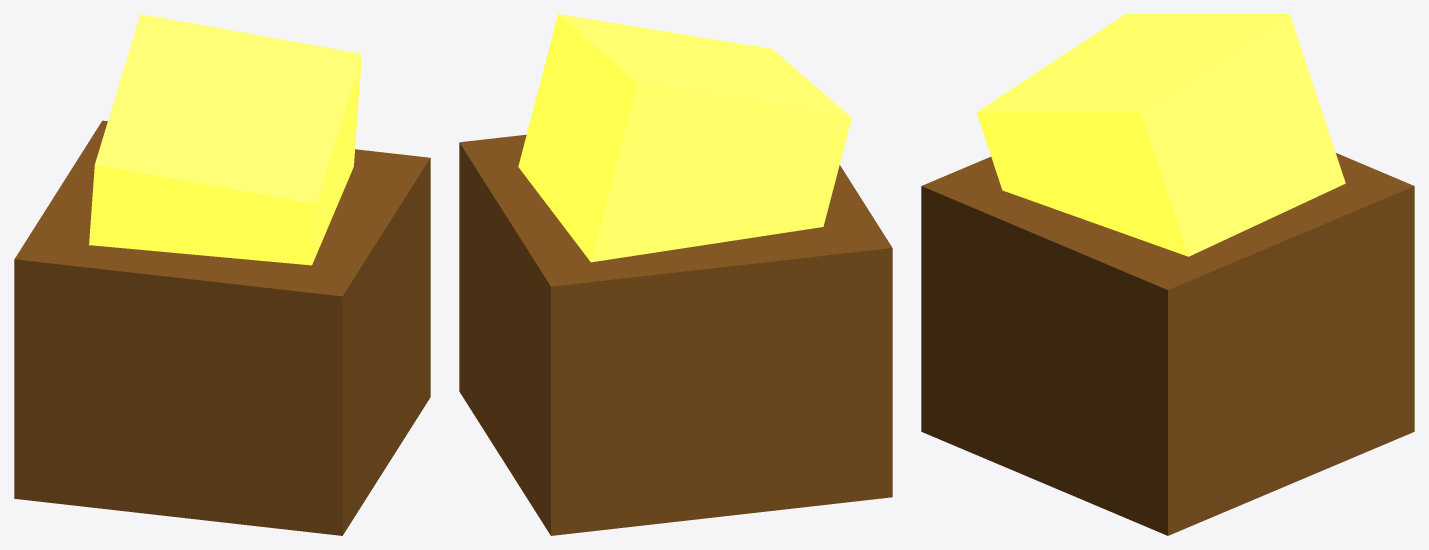
File: splitter.glb
3 views of the same model, side by side, from view 1: azimuth 30°, elevation 25°; view 2: azimuth 150°, elevation 25°; view 3: azimuth 270°, elevation 25° (orthographic). The views are drawn at different scales.
Bounding box in the file's own units: 0.5091 × 0.463 × 0.5091.
